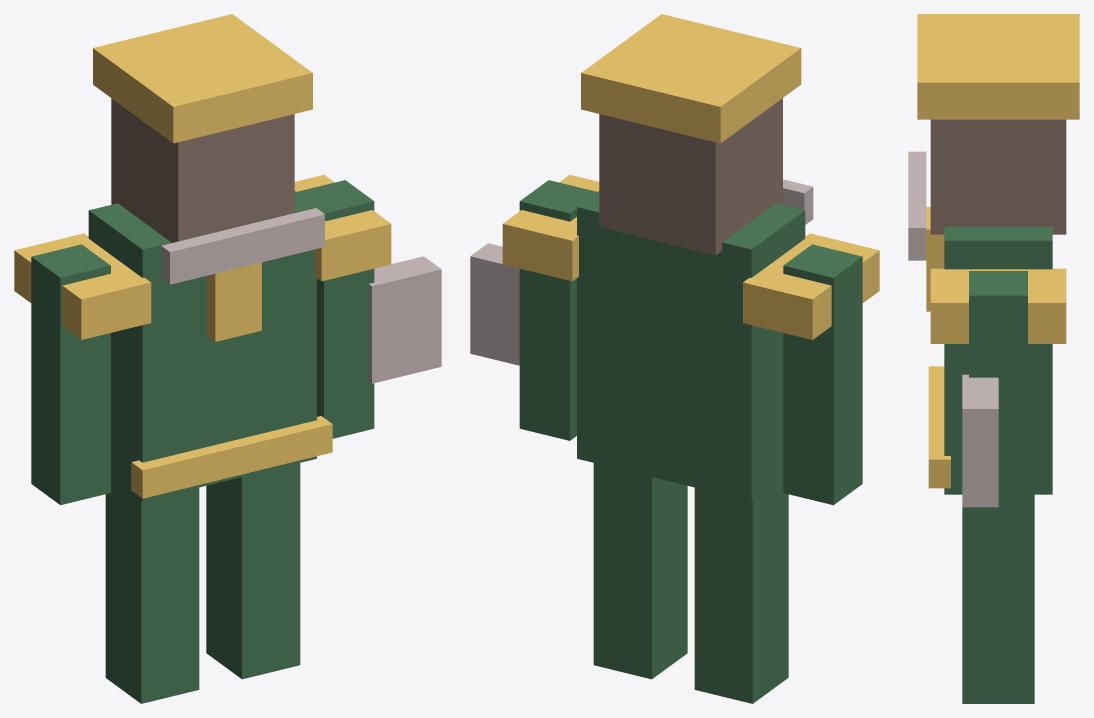
The model's file is 05_bex_chromabell_broker_from_bridge.glb.
3 renders of one model, left to right at view 1: azimuth 30°, elevation 25°; view 2: azimuth 150°, elevation 25°; view 3: azimuth 270°, elevation 25°, orthographic.
Parts seen in each view (by area): view 1: Bex Chromabell, Broker from Bridge; view 2: Bex Chromabell, Broker from Bridge; view 3: Bex Chromabell, Broker from Bridge.
Part boxes in pixels (x1,y1,x2,y2): Bex Chromabell, Broker from Bridge: [14, 14, 441, 703]; Bex Chromabell, Broker from Bridge: [470, 14, 879, 703]; Bex Chromabell, Broker from Bridge: [908, 14, 1079, 703].
Bounding box in the file's own units: 0.9596 × 1.48 × 0.374.
